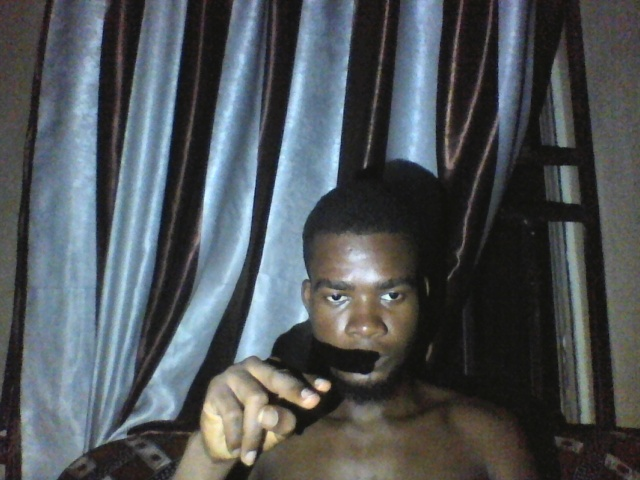no: (174, 341, 344, 476)
